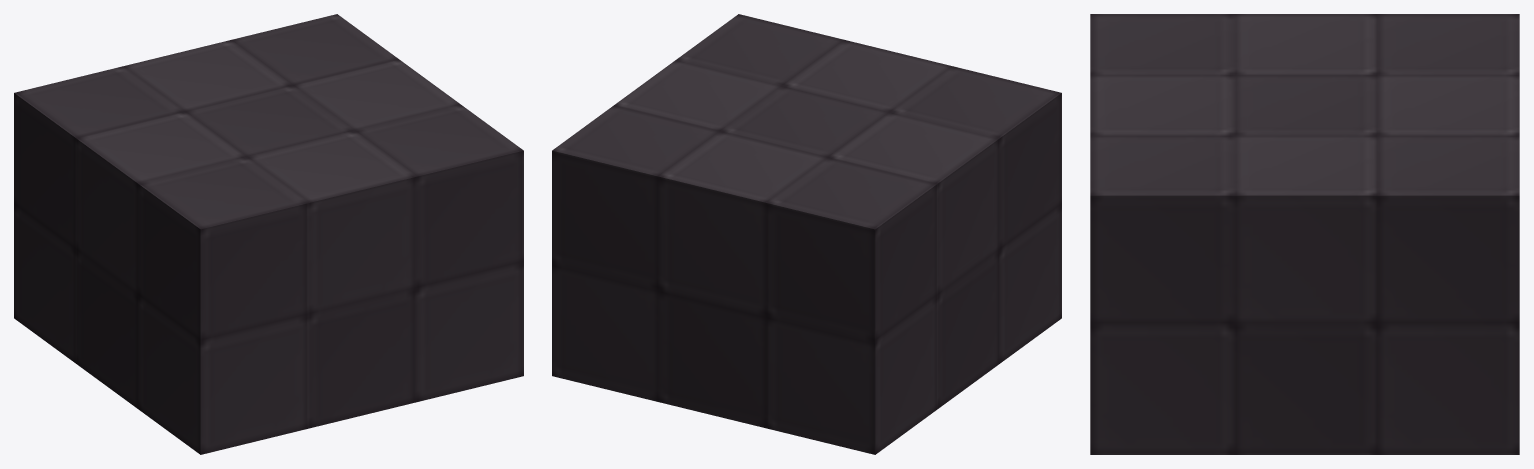
The model's file is ground_block_3x2x3.fbx.
3 views of the same model, side by side, from view 1: azimuth 30°, elevation 25°; view 2: azimuth 150°, elevation 25°; view 3: azimuth 270°, elevation 25° (orthographic). The views are drawn at different scales.
Visible parts, largest first — view 1: ground_block_3x2x3; view 2: ground_block_3x2x3; view 3: ground_block_3x2x3.
Boxes of the visible parts, <box> form: ground_block_3x2x3: <box>14,14,523,454</box>; ground_block_3x2x3: <box>552,14,1061,454</box>; ground_block_3x2x3: <box>1090,14,1519,454</box>.
Bounding box in the file's own units: 300 × 200 × 300.
